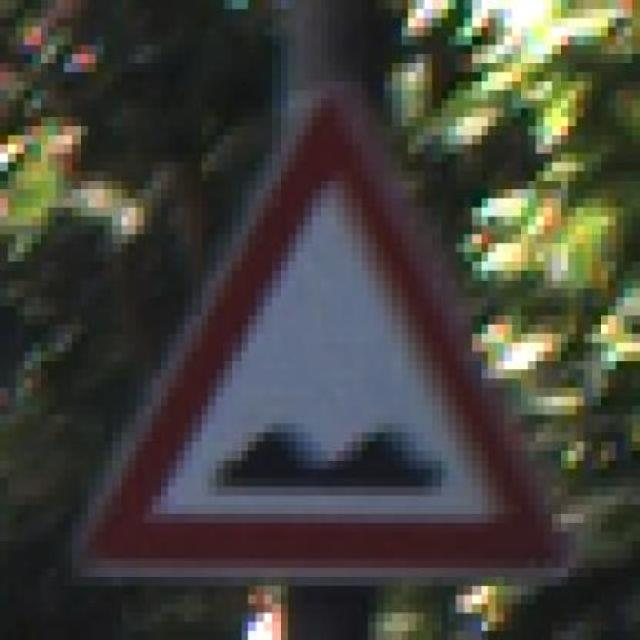Uneven Road: (85, 81, 572, 585)
